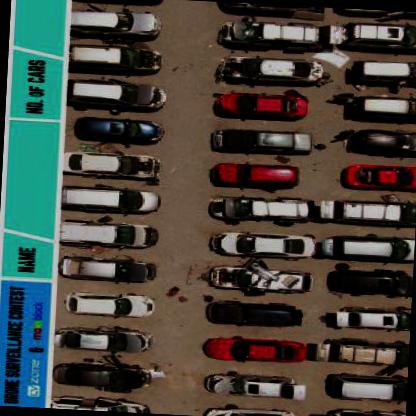car: (68, 80, 170, 112), (61, 218, 159, 250), (212, 193, 309, 224), (67, 4, 160, 36), (227, 52, 323, 83), (67, 182, 163, 212), (73, 42, 162, 74), (76, 113, 166, 144), (221, 88, 310, 119), (222, 228, 312, 258), (213, 332, 296, 364), (330, 262, 411, 294), (210, 296, 296, 326), (64, 254, 156, 282), (216, 123, 304, 152), (218, 158, 300, 188), (62, 324, 148, 352), (69, 289, 150, 317), (323, 302, 404, 330), (345, 160, 415, 190), (332, 374, 406, 401), (338, 234, 414, 260), (334, 200, 416, 222), (53, 392, 143, 412), (205, 403, 293, 415)
